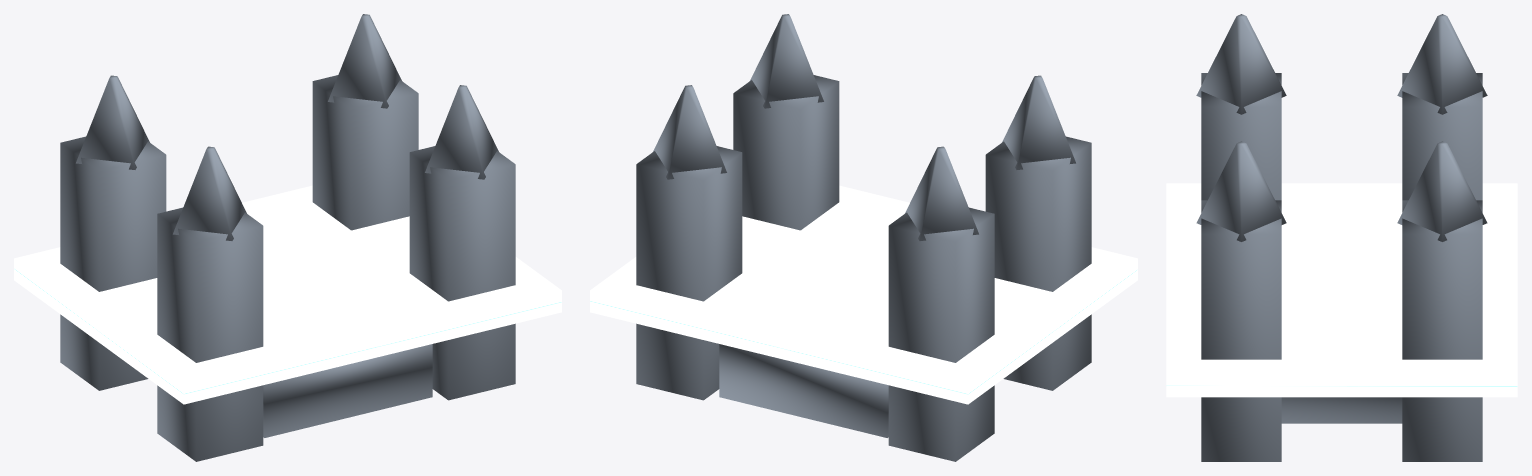
Rendered from structure_submerged_ice_citadel.glb.
3 views of the same model, side by side, from view 1: azimuth 30°, elevation 25°; view 2: azimuth 150°, elevation 25°; view 3: azimuth 270°, elevation 25° (orthographic). The views are drawn at different scales.
Parts seen in each view (by area): view 1: Translucent_Ice_Sheet, Submerged_Tower_1, Submerged_Tower_2, Submerged_Tower_3, Submerged_Tower_4, Submerged_Central_Nave, Tower_Spire_2, Tower_Spire_4, Tower_Spire_3, Tower_Spire_1; view 2: Translucent_Ice_Sheet, Submerged_Tower_3, Submerged_Tower_4, Submerged_Tower_1, Submerged_Tower_2, Submerged_Central_Nave, Tower_Spire_4, Tower_Spire_2, Tower_Spire_1, Tower_Spire_3; view 3: Translucent_Ice_Sheet, Submerged_Tower_2, Submerged_Tower_4, Submerged_Tower_1, Submerged_Tower_3, Tower_Spire_1, Tower_Spire_3, Tower_Spire_2, Tower_Spire_4, Submerged_Central_Nave.
Boxes of the visible parts, box(x1,y1,x2,y2) form: Translucent_Ice_Sheet: box(14, 185, 561, 404); Submerged_Tower_1: box(157, 207, 263, 461); Submerged_Tower_2: box(409, 146, 515, 400); Submerged_Tower_3: box(60, 136, 166, 390); Submerged_Tower_4: box(312, 75, 418, 230); Submerged_Central_Nave: box(263, 344, 432, 437); Tower_Spire_2: box(425, 85, 498, 179); Tower_Spire_4: box(328, 14, 401, 108); Tower_Spire_3: box(76, 75, 149, 169); Tower_Spire_1: box(173, 146, 246, 240); Translucent_Ice_Sheet: box(590, 185, 1137, 404); Submerged_Tower_3: box(888, 207, 994, 461); Submerged_Tower_4: box(636, 146, 742, 400); Submerged_Tower_1: box(985, 136, 1091, 390); Submerged_Tower_2: box(733, 75, 839, 230); Submerged_Central_Nave: box(719, 344, 888, 437); Tower_Spire_4: box(653, 85, 726, 179); Tower_Spire_2: box(750, 14, 823, 108); Tower_Spire_1: box(1002, 75, 1075, 169); Tower_Spire_3: box(905, 146, 978, 240); Translucent_Ice_Sheet: box(1166, 183, 1517, 397); Submerged_Tower_2: box(1201, 200, 1281, 461); Submerged_Tower_4: box(1402, 200, 1482, 461); Submerged_Tower_1: box(1201, 73, 1281, 200); Submerged_Tower_3: box(1402, 73, 1482, 200); Tower_Spire_1: box(1196, 14, 1286, 114); Tower_Spire_3: box(1397, 14, 1487, 114); Tower_Spire_2: box(1196, 141, 1286, 241); Tower_Spire_4: box(1397, 141, 1487, 241); Submerged_Central_Nave: box(1281, 397, 1402, 423).
Size of the model in its own units: 18 by 13.25 by 14.
